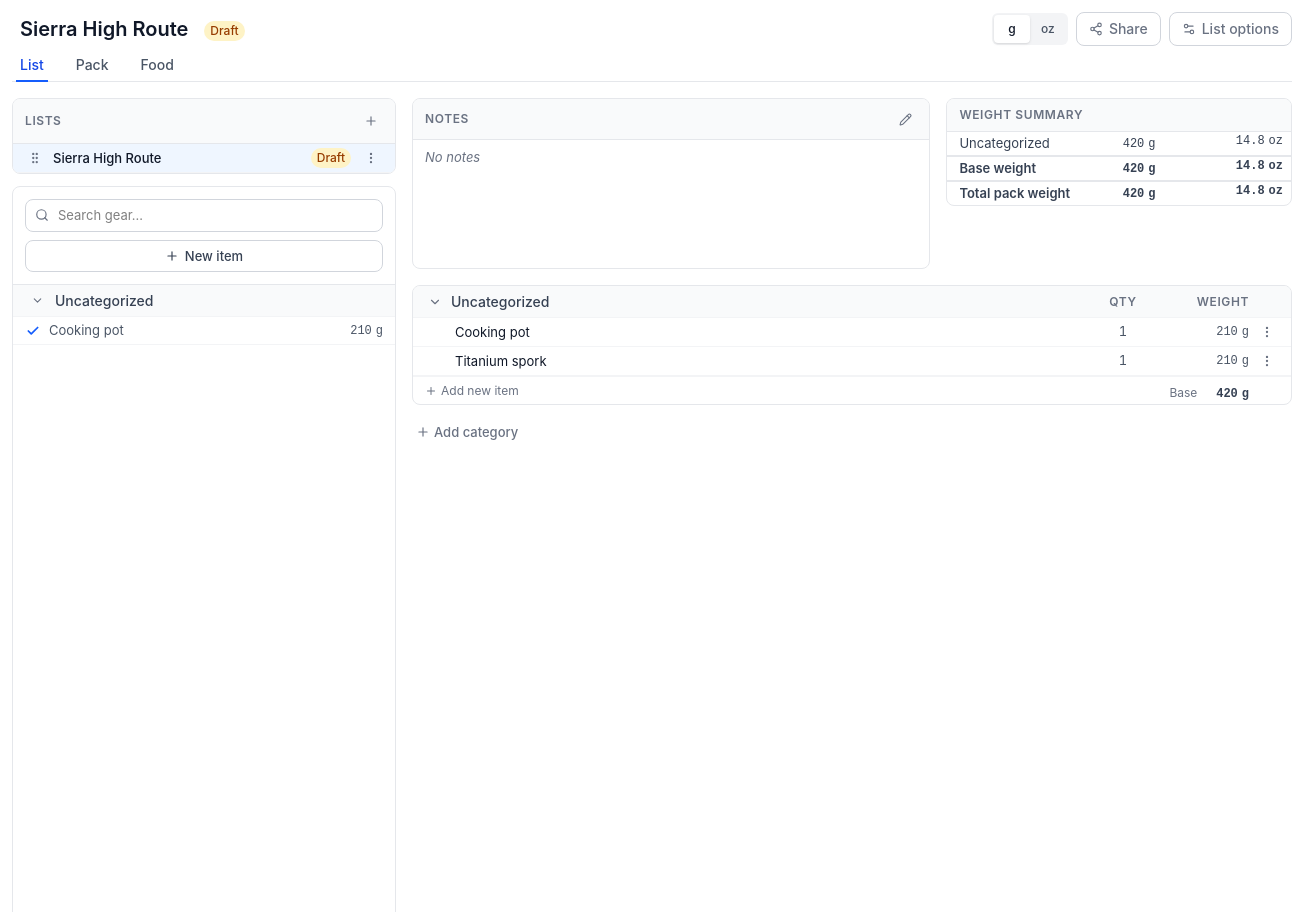
Test: printing renders collapsed sections too › leaves the section collapsed again afterwards
Check: the button "Add new item" is shown, box [425,382,1033,398]
What coordinates should you click on to do the following:
click the button named "Collapse " in the row of "Qty"
I would click on:
 (435, 302)
Its box is [425,288,445,316].
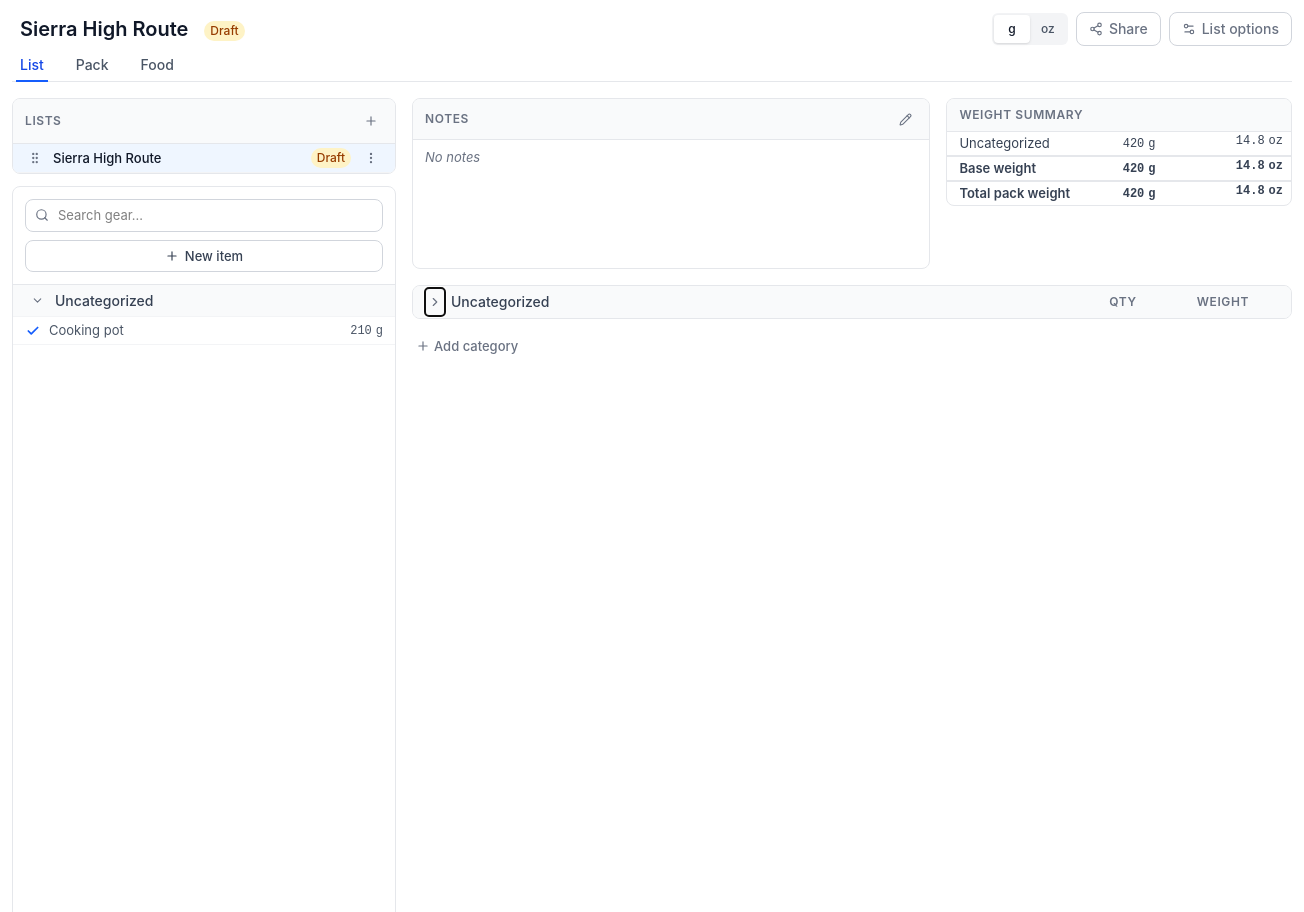
Check: the button "Titanium spork" is gone
